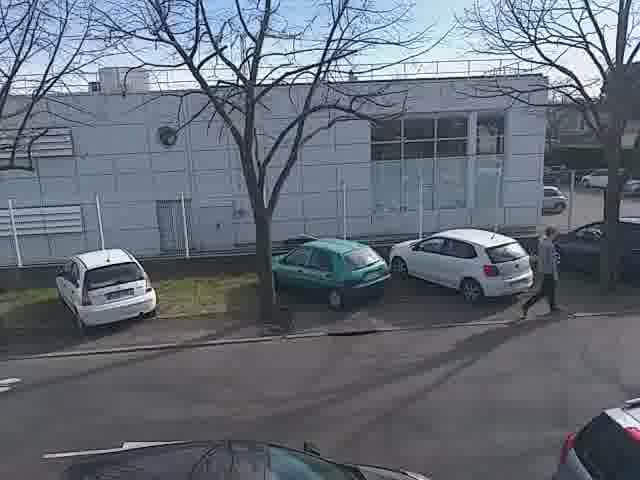persona: (515, 224, 572, 318)
